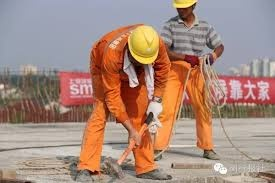yellow: (126, 23, 160, 67), (172, 1, 196, 19)
